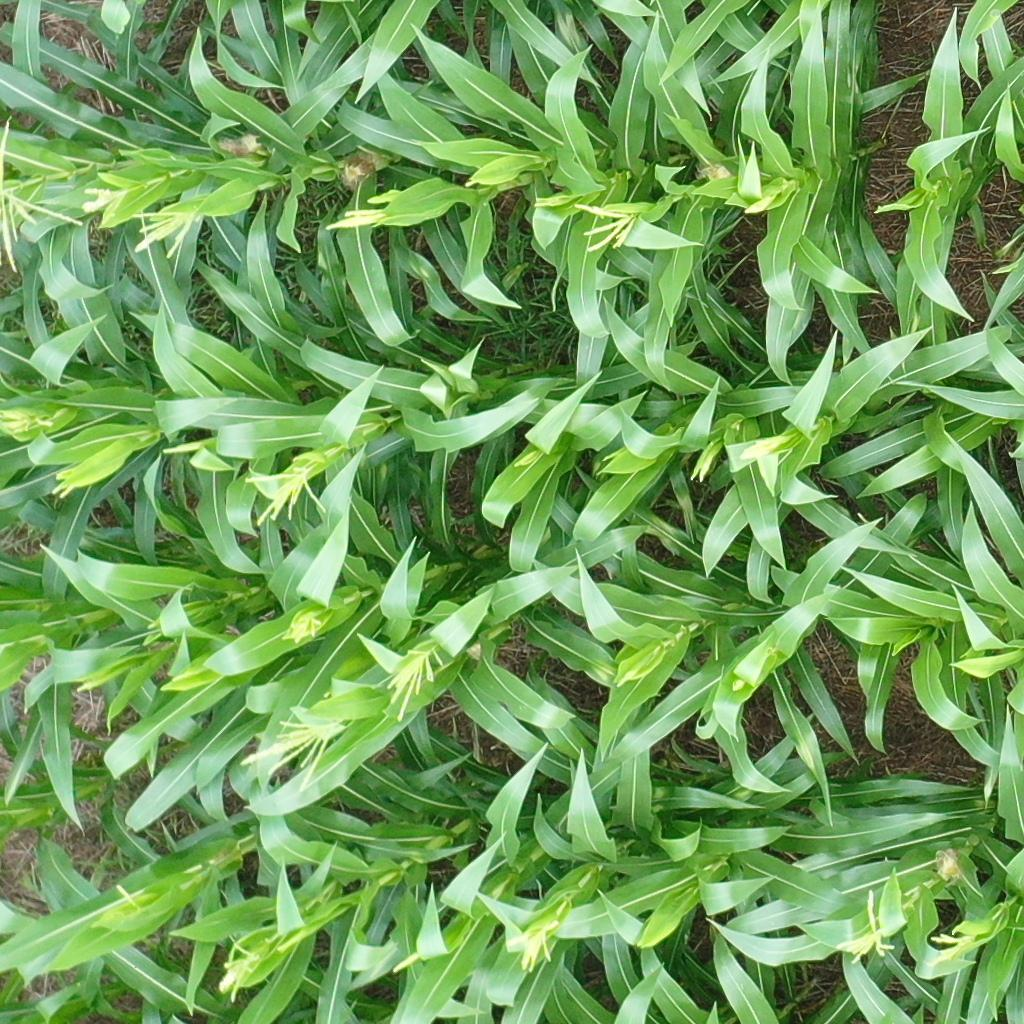Tassel: (1, 119, 84, 272), (239, 715, 344, 791), (241, 460, 326, 524), (839, 885, 896, 967), (387, 647, 442, 723), (572, 195, 639, 253), (131, 210, 204, 262), (216, 935, 264, 1003), (508, 913, 555, 972), (923, 926, 976, 969), (317, 207, 387, 233), (281, 613, 327, 646), (1, 407, 55, 435), (739, 433, 786, 462), (695, 438, 718, 484), (85, 186, 118, 216), (47, 468, 75, 499), (529, 190, 568, 211), (277, 933, 308, 957)
